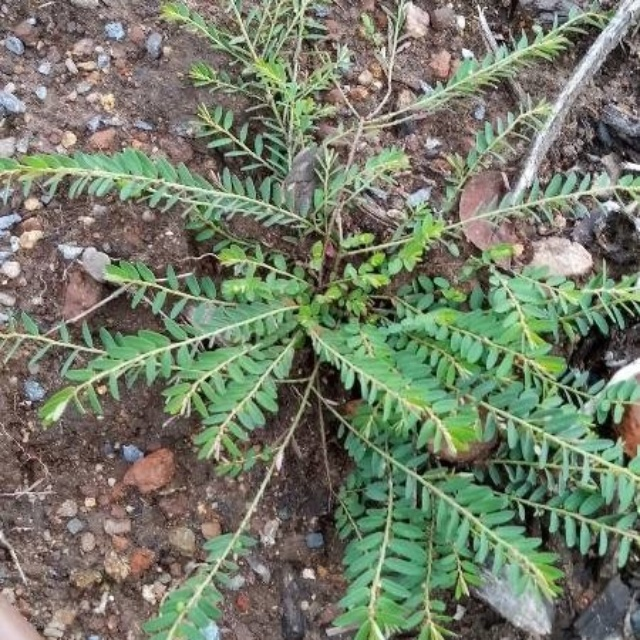obstacle: (118, 26, 589, 613)
